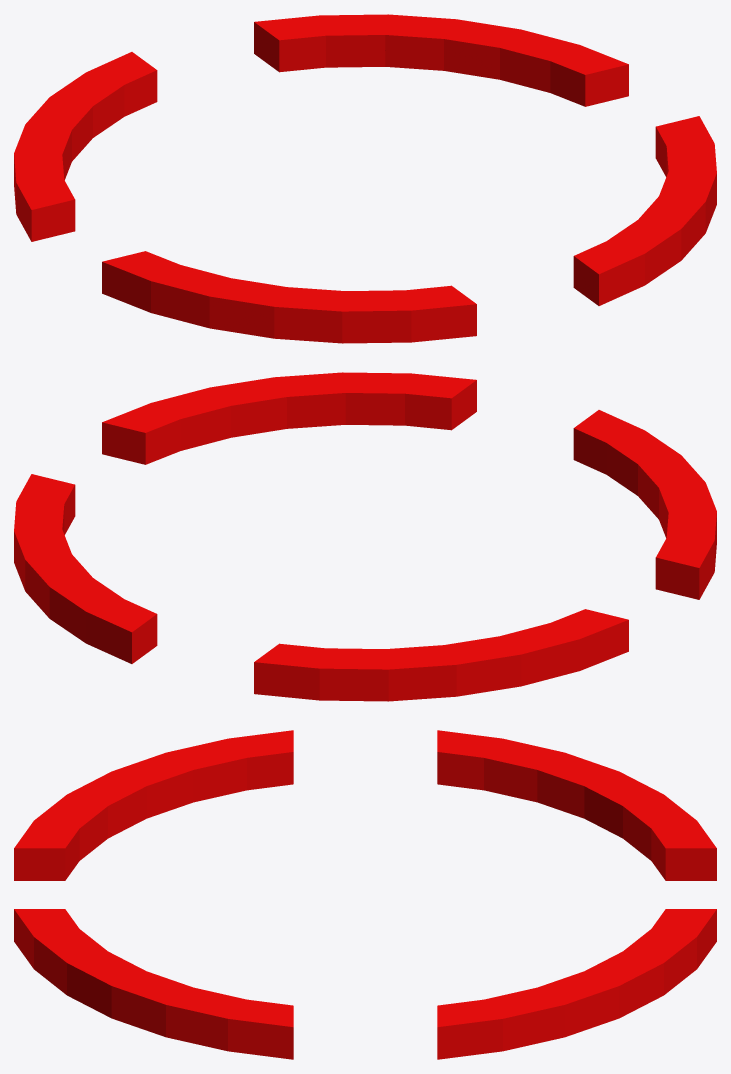
Rendered from targetMark.obj.
3 renders of one model, top to bottom at view 1: azimuth 30°, elevation 25°; view 2: azimuth 150°, elevation 25°; view 3: azimuth 270°, elevation 25°, orthographic.
Visible parts, largest first — view 1: 円柱; view 2: 円柱; view 3: 円柱.
Boxes of the visible parts, <box> form: 円柱: <box>14,14,716,343</box>; 円柱: <box>14,372,716,701</box>; 円柱: <box>14,730,716,1059</box>.
Bounding box in the file's own units: 1.96 × 0.1 × 1.96.
1 material, 1 textured.
